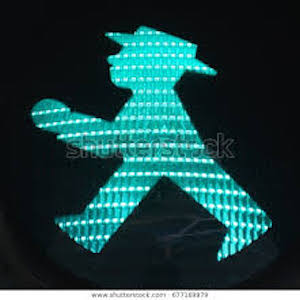green: (13, 13, 269, 257)
